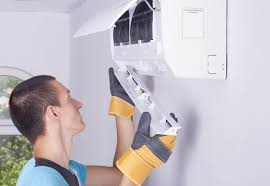ac: (71, 1, 236, 82)
